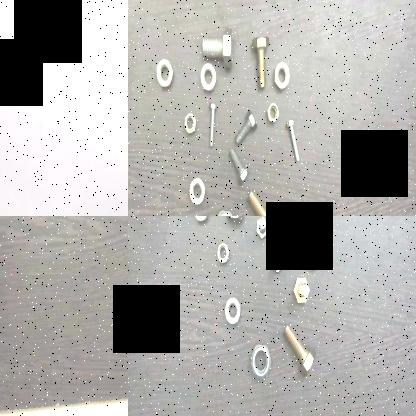Bolts: (280, 323, 316, 383), (202, 25, 240, 65), (248, 33, 271, 93), (235, 103, 259, 148), (248, 190, 280, 216), (229, 148, 250, 186), (292, 274, 312, 308), (206, 98, 217, 154), (317, 216, 337, 241), (270, 247, 286, 276), (255, 216, 270, 240)
NUTS: (250, 340, 272, 388), (155, 56, 176, 91), (224, 292, 243, 330), (187, 174, 208, 208), (306, 236, 326, 270), (272, 62, 292, 92), (200, 60, 218, 92), (214, 238, 232, 268), (184, 110, 198, 140), (266, 101, 281, 129), (282, 218, 296, 246), (212, 206, 236, 216), (225, 216, 245, 228), (191, 216, 209, 226)
